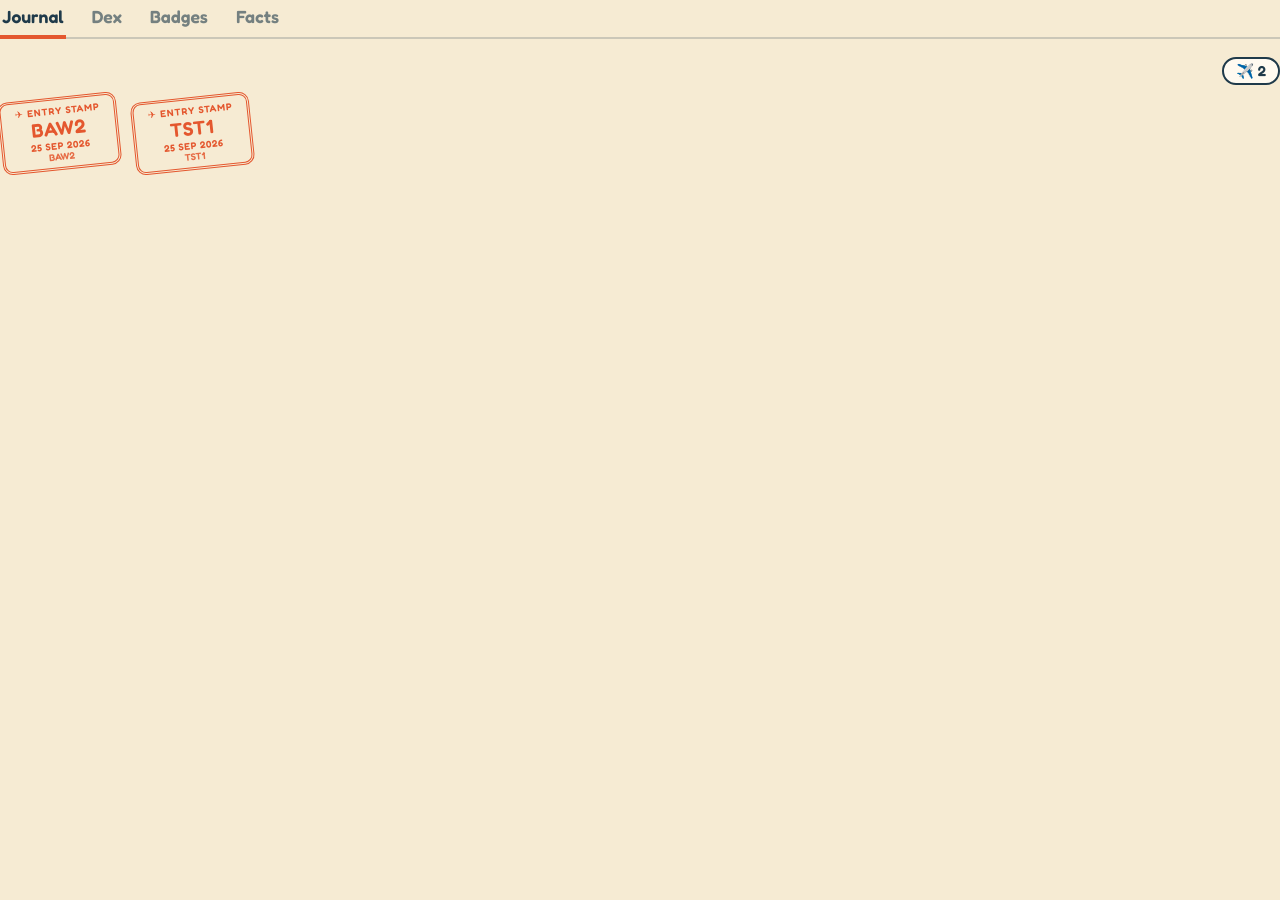
a badge shows its description in a pop-up once tapped
Click the button "Badges" at (179, 20), box [148,0,210,39]
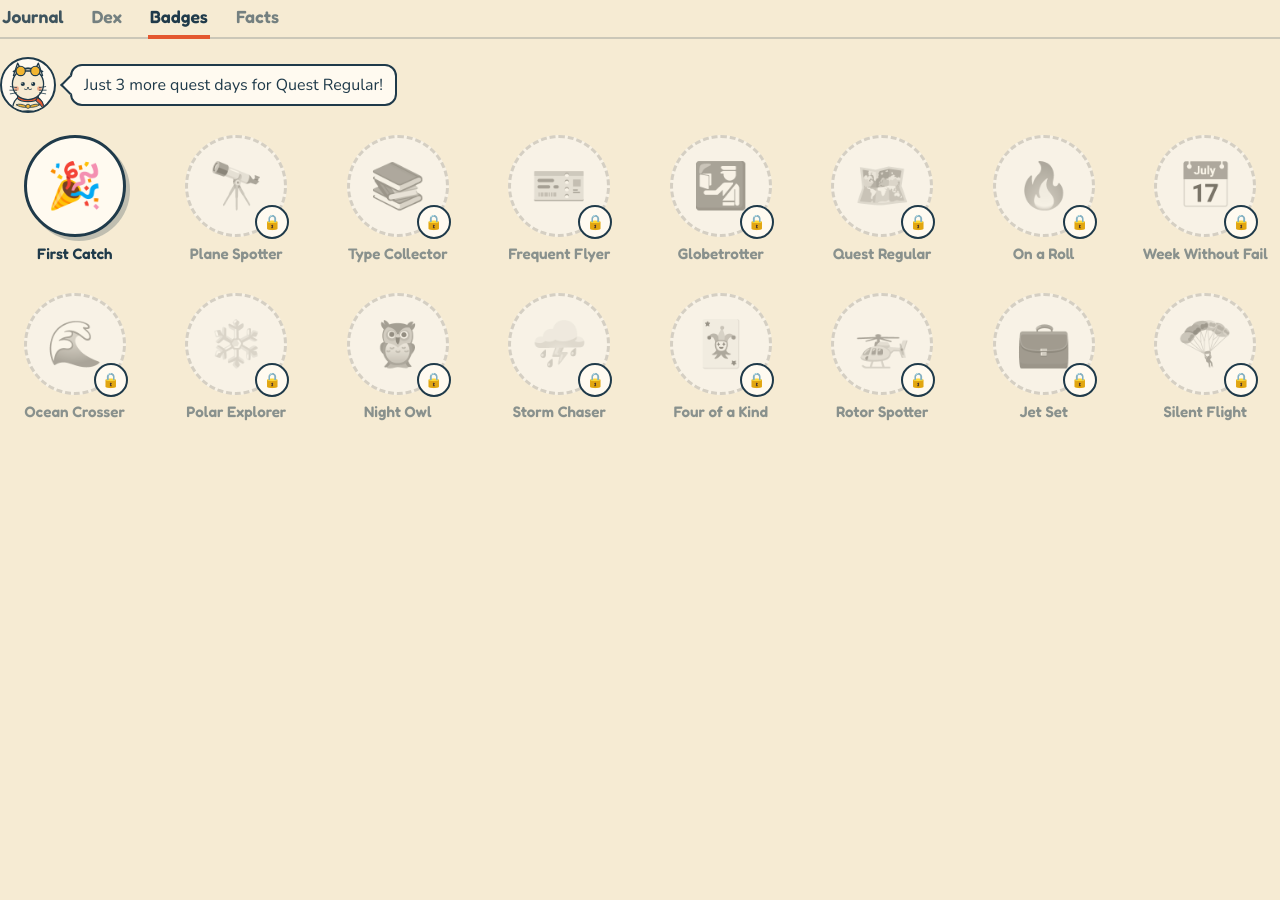
Expected: the text "Catch a flight where it's night." is not shown
Click the button "🦉 🔒 Night Owl" at (398, 357), box [323,289,472,425]
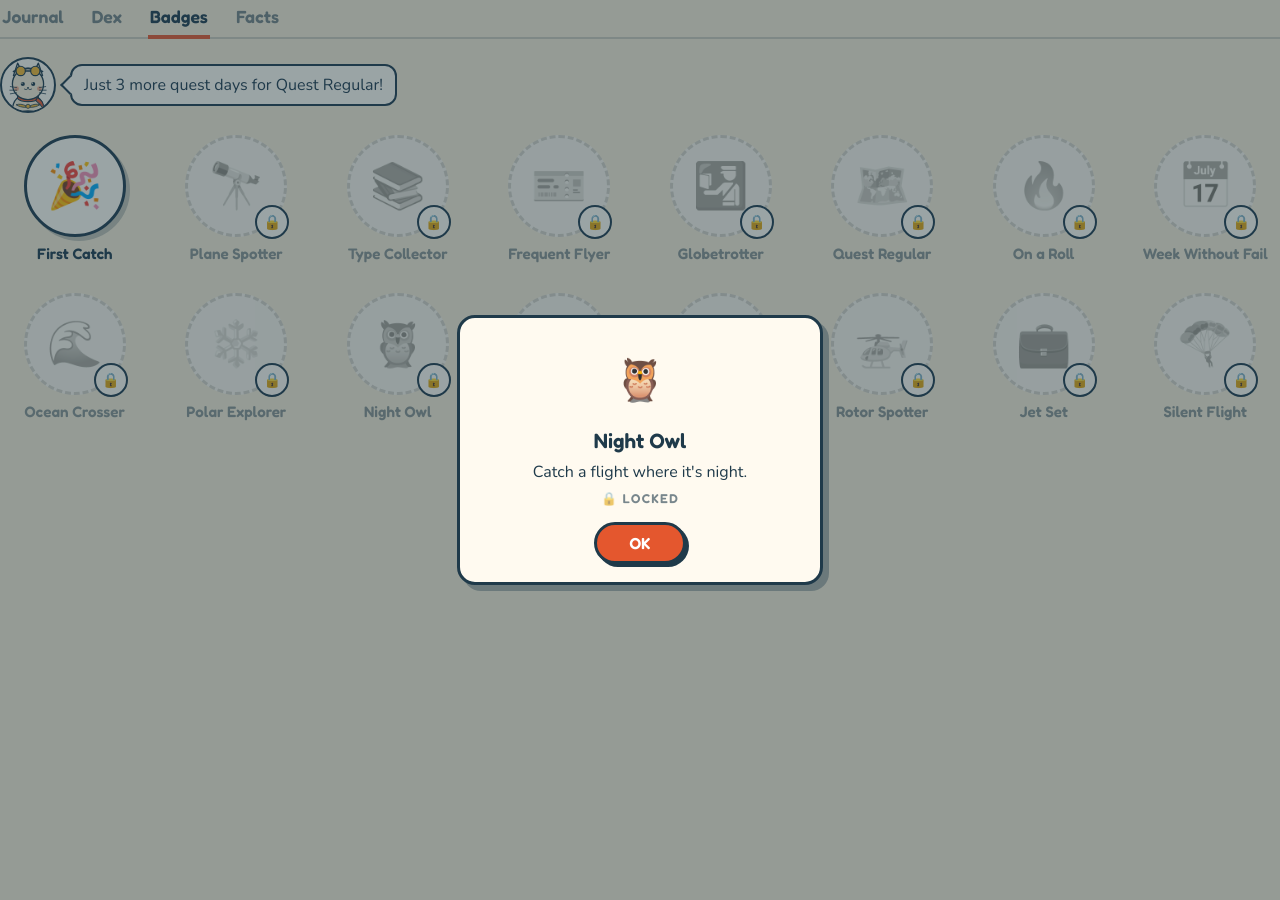
Expected: the dialog "Night Owl" shows "Catch a flight where it's night.", [533,461,747,483]
Expected: the dialog "Night Owl" shows "Locked", [601,491,679,506]
Click the button "OK" at (640, 543), box [594,522,686,564]
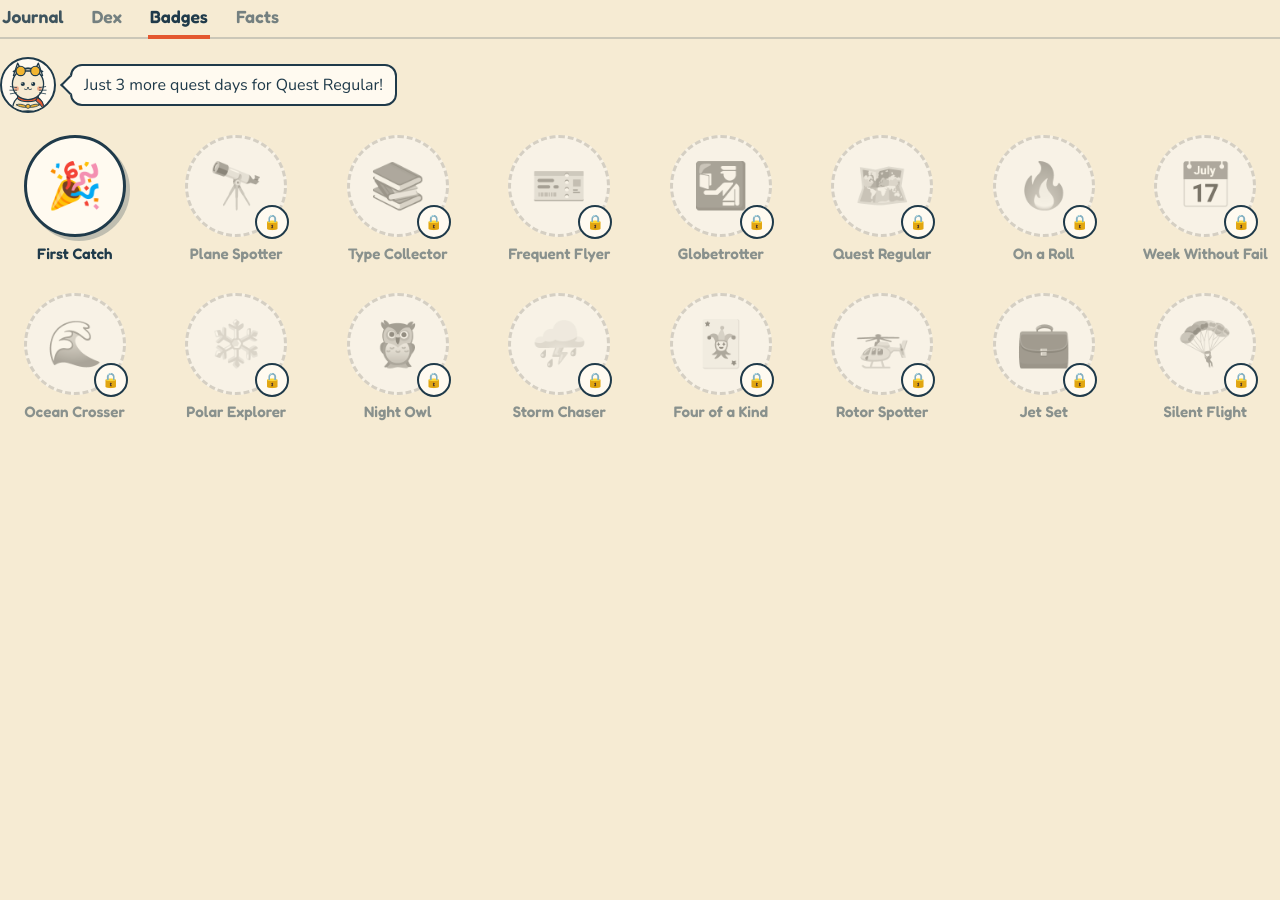
Expected: the dialog is gone
